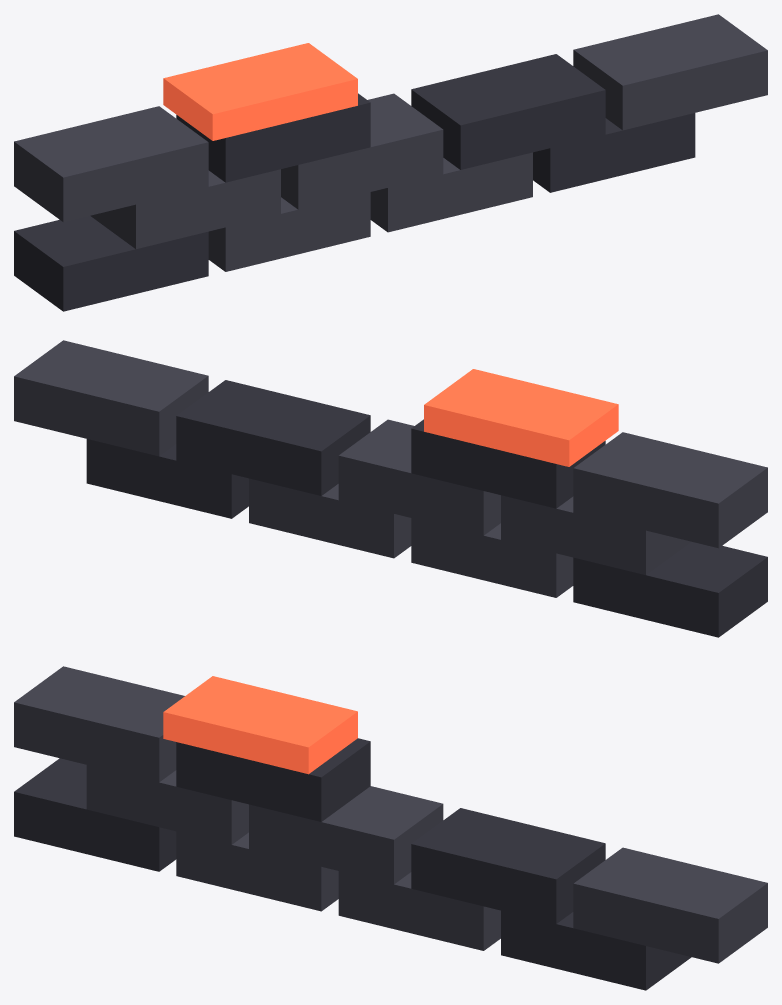
File: soegol_ingot_stack.glb
3 renders of one model, top to bottom at view 1: azimuth 30°, elevation 25°; view 2: azimuth 150°, elevation 25°; view 3: azimuth 330°, elevation 25°, orthographic.
Parts seen in each view (by area): view 1: soegol_ingot_stack; view 2: soegol_ingot_stack; view 3: soegol_ingot_stack.
Boxes of the visible parts, <box> form: soegol_ingot_stack: <box>14,14,767,311</box>; soegol_ingot_stack: <box>14,340,767,637</box>; soegol_ingot_stack: <box>14,666,767,990</box>.
Bounding box in the file's own units: 1.65 × 0.36 × 0.2.
